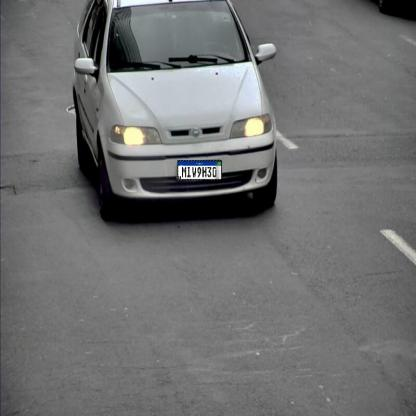PlacaM: (177, 160, 222, 180)
